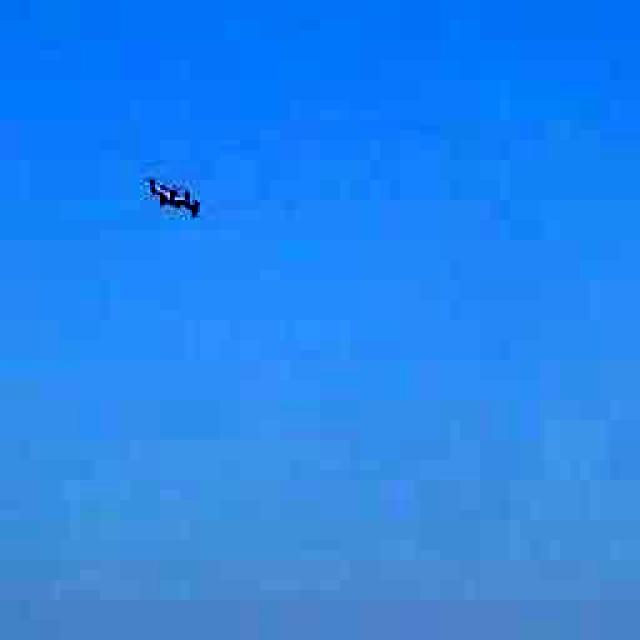bird: (132, 168, 220, 230)
